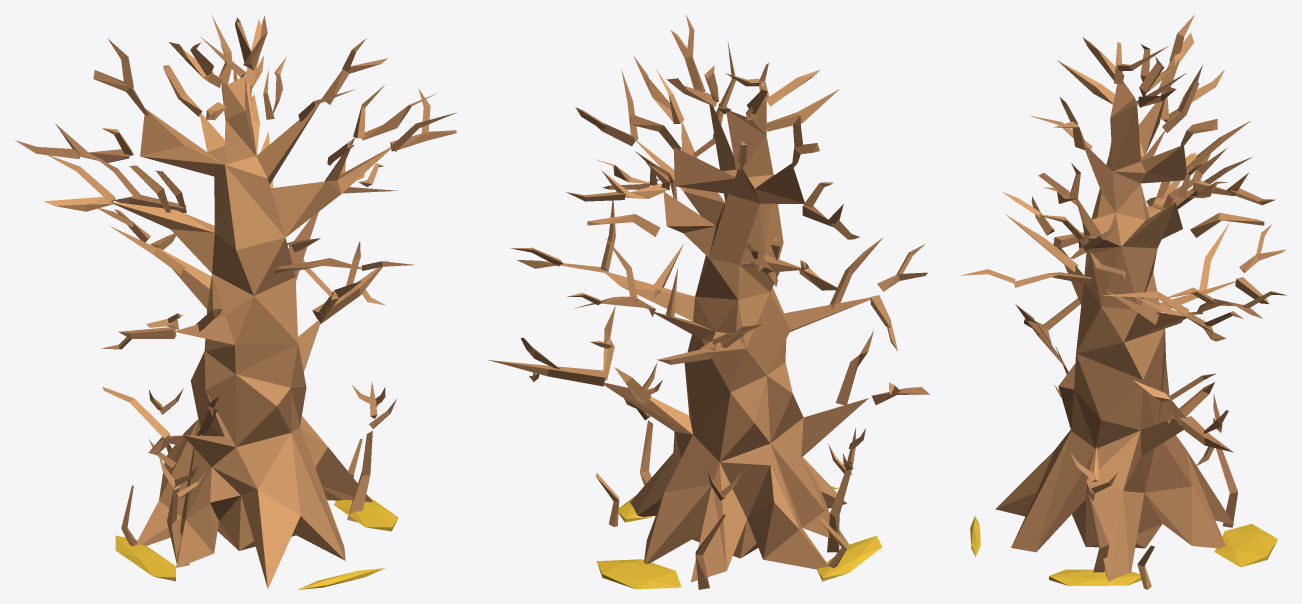
Rendered from giant_ginkgo_bare_far.glb.
3 renders of one model, left to right at view 1: azimuth 30°, elevation 25°; view 2: azimuth 150°, elevation 25°; view 3: azimuth 270°, elevation 25°, orthographic. The views are drawn at different scales.
Parts seen in each view (by area): view 1: giant_ginkgo_bare_far; view 2: giant_ginkgo_bare_far; view 3: giant_ginkgo_bare_far.
Boxes of the visible parts, x1,y1,x2,y2 form: giant_ginkgo_bare_far: [15, 15, 457, 589]; giant_ginkgo_bare_far: [488, 15, 929, 589]; giant_ginkgo_bare_far: [961, 15, 1286, 589].
Size of the model in its own units: 23.14 by 29.61 by 18.12.
